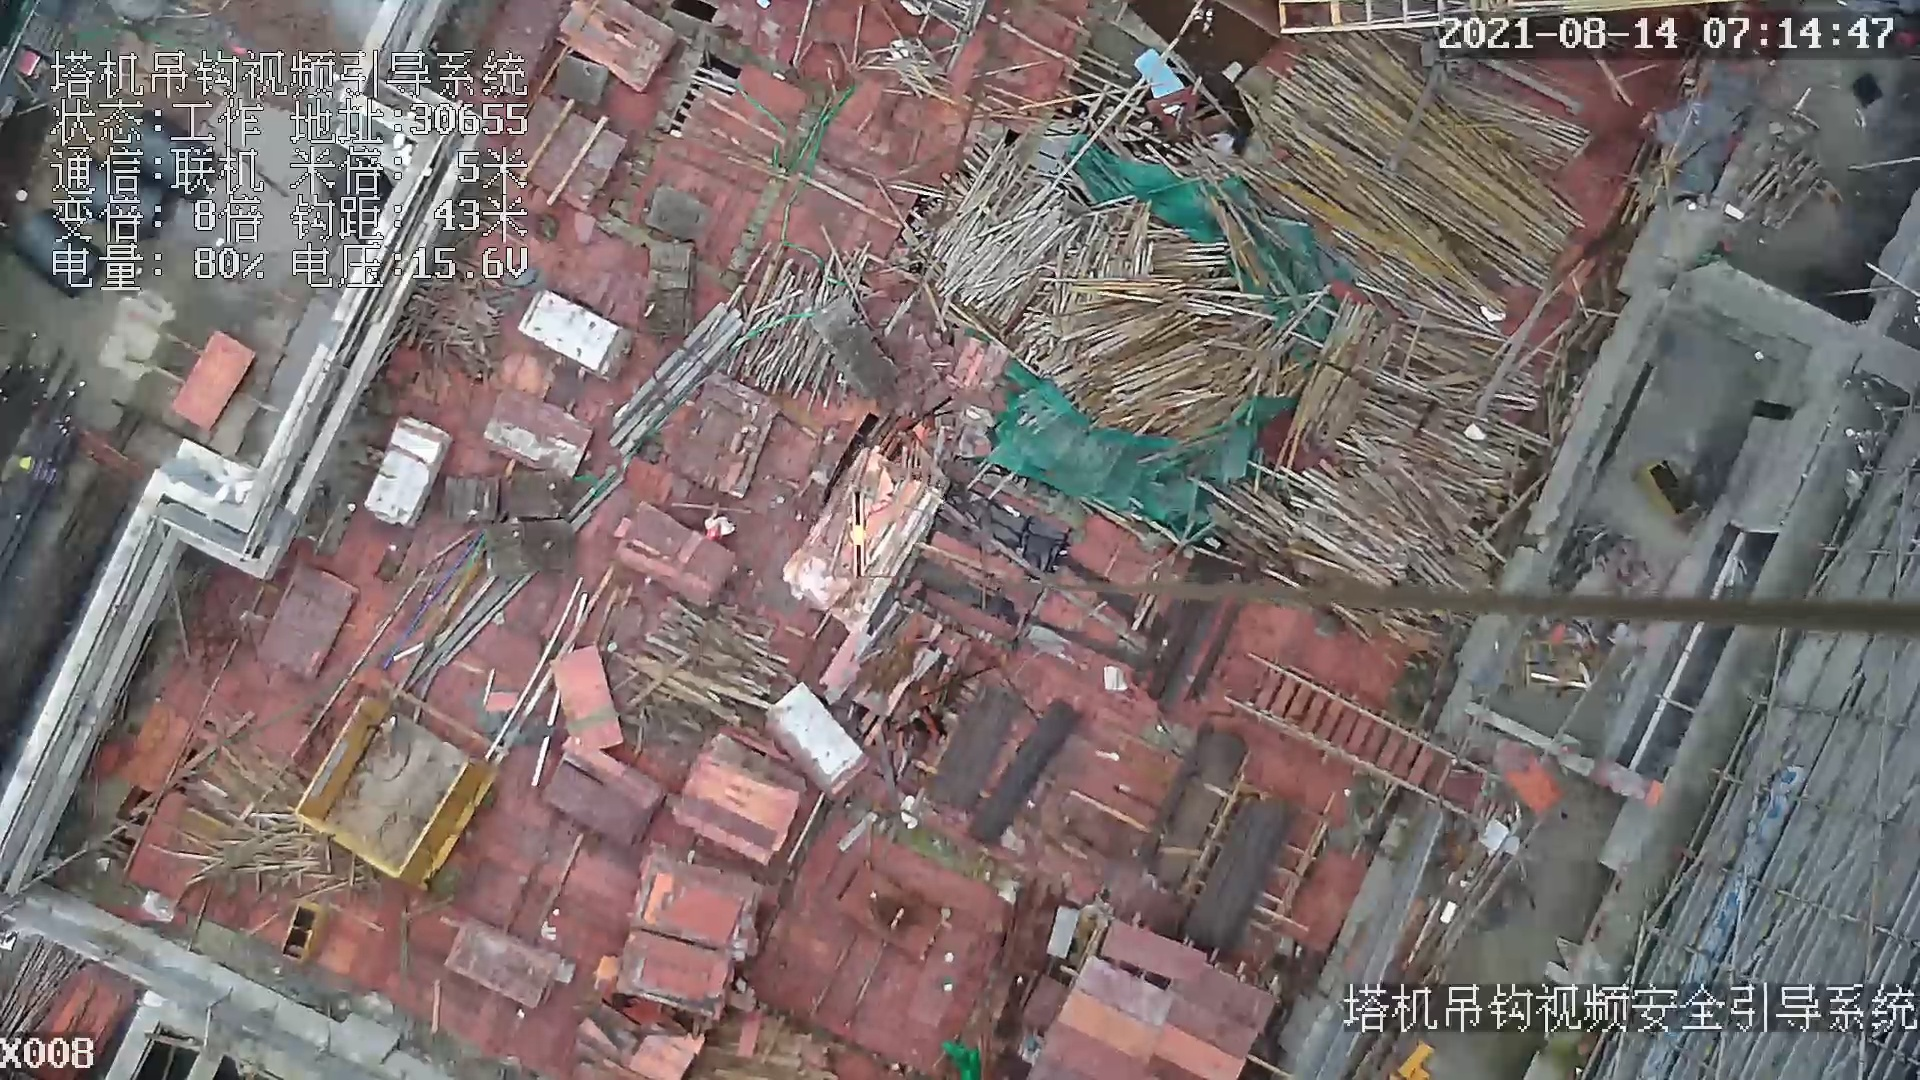hook: (837, 483, 884, 583)
